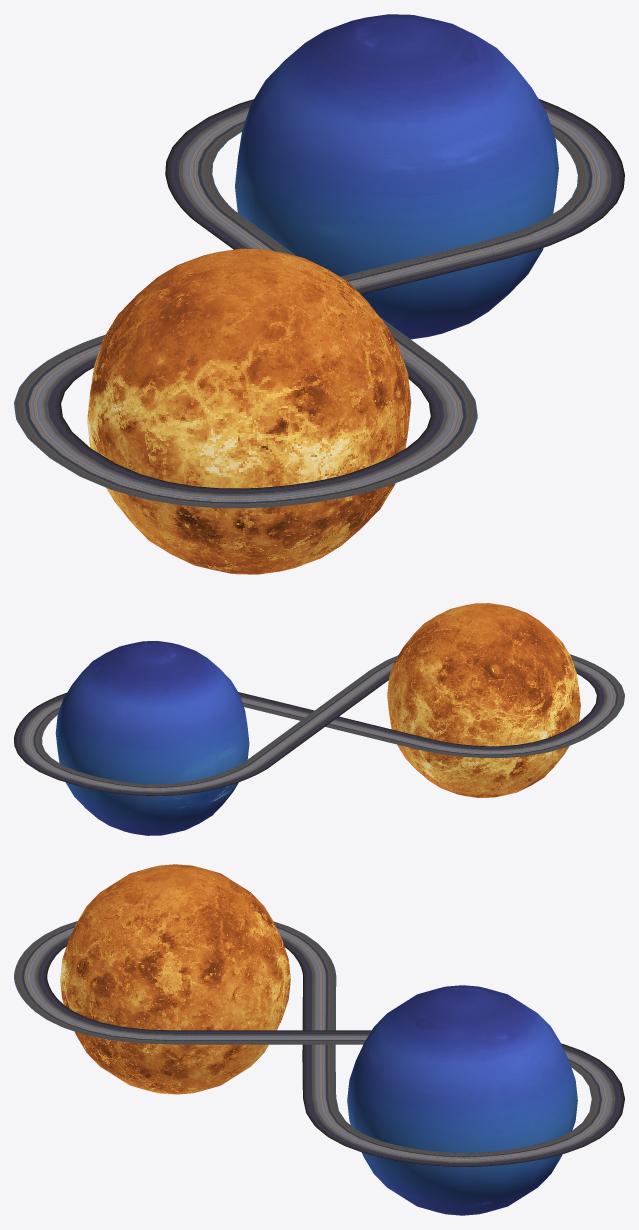
The model's file is interspace8.glb.
3 views of the same model, one above another, from view 1: azimuth 30°, elevation 25°; view 2: azimuth 150°, elevation 25°; view 3: azimuth 270°, elevation 25° (orthographic). The views are drawn at different scales.
Visible parts, largest first — view 1: Sphere, Sphere.001, mainTrack -col; view 2: Sphere, Sphere.001, mainTrack -col; view 3: Sphere, Sphere.001, mainTrack -col.
Boxes of the visible parts, <box> form: Sphere: <box>87,248,411,574</box>; Sphere.001: <box>235,14,558,339</box>; mainTrack -col: <box>14,98,624,508</box>; Sphere: <box>387,603,580,797</box>; Sphere.001: <box>55,641,249,835</box>; mainTrack -col: <box>14,654,624,795</box>; Sphere: <box>60,864,290,1094</box>; Sphere.001: <box>347,985,577,1215</box>; mainTrack -col: <box>14,921,624,1166</box>.
Bounding box in the file's own units: 636 × 241 × 637.
3 materials, 3 textured.
